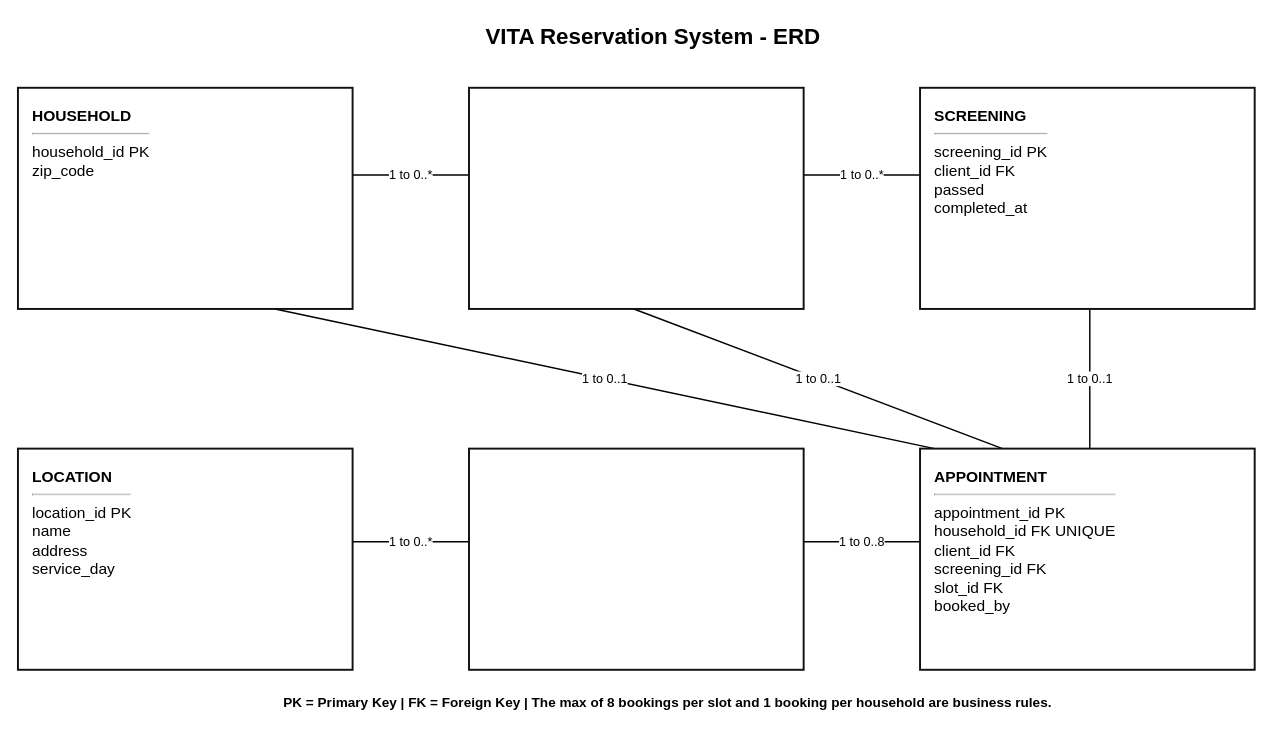
Some shapes in this 1272 by 733 pixel diagram are drawn without their labels. The box of each missing label's shape, as (x1, y1, x2, y2) in pixels:
CLIENT client_id PK household_id FK full_name phone zip_code: (468, 86, 804, 309)
TIME_SLOT slot_id PK location_id FK start_time end_time capacity (8): (468, 447, 804, 670)
